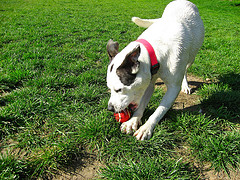tennis ball: (115, 107, 132, 125)
